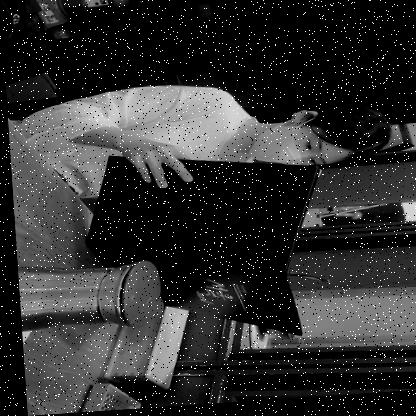streamer: (5, 75, 394, 227)
